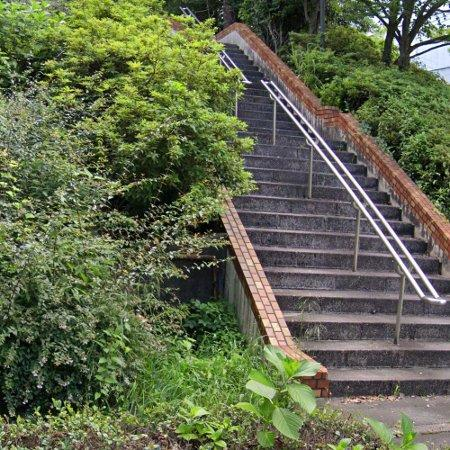stairs: (227, 44, 450, 396)
